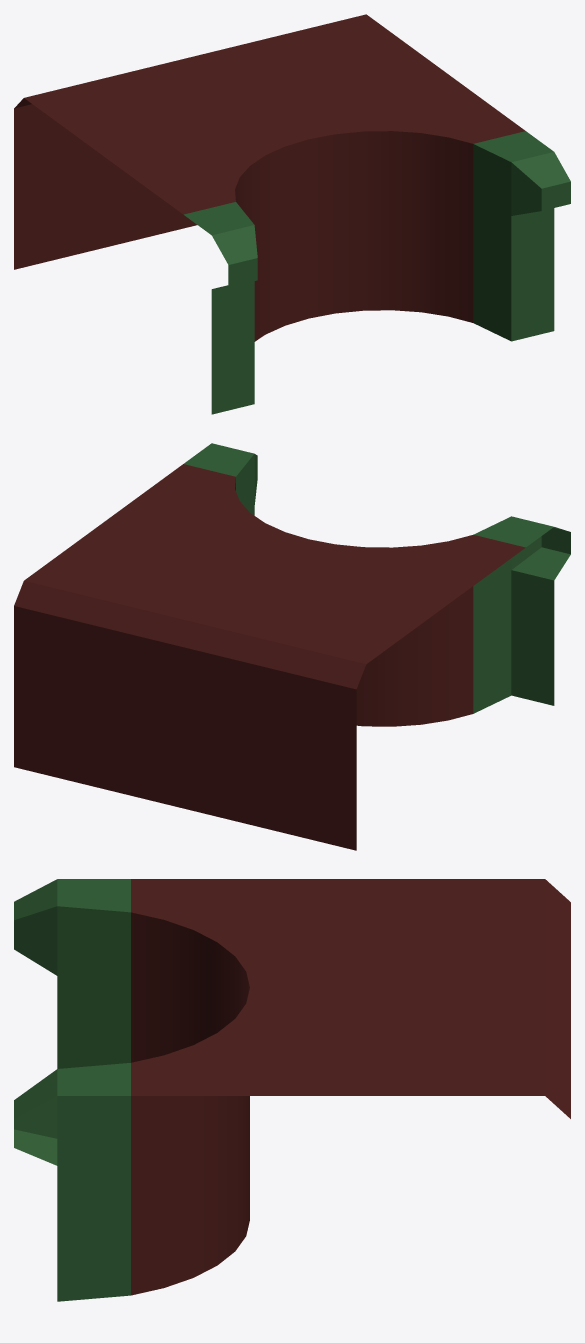
The model's file is PoolTable.fbx_PoolTableSidePocket.fbx.
3 views of the same model, one above another, from view 1: azimuth 30°, elevation 25°; view 2: azimuth 150°, elevation 25°; view 3: azimuth 270°, elevation 25° (orthographic). The views are drawn at different scales.
Parts seen in each view (by area): view 1: PoolTableSidePocket; view 2: PoolTableSidePocket; view 3: PoolTableSidePocket.
Part boxes in pixels (x1,y1,x2,y2): PoolTableSidePocket: (14,14,570,414); PoolTableSidePocket: (14,443,570,850); PoolTableSidePocket: (14,879,570,1301).
Bounding box in the file's own units: 2 × 1 × 2.17.
